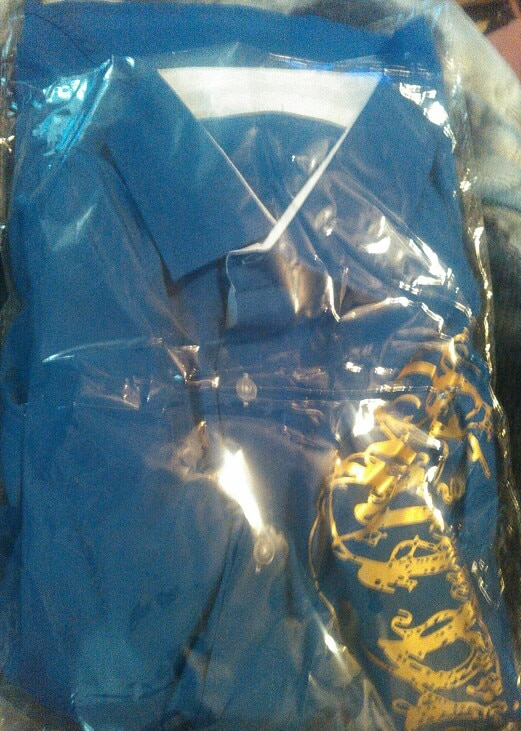shirts: (19, 51, 521, 725)
